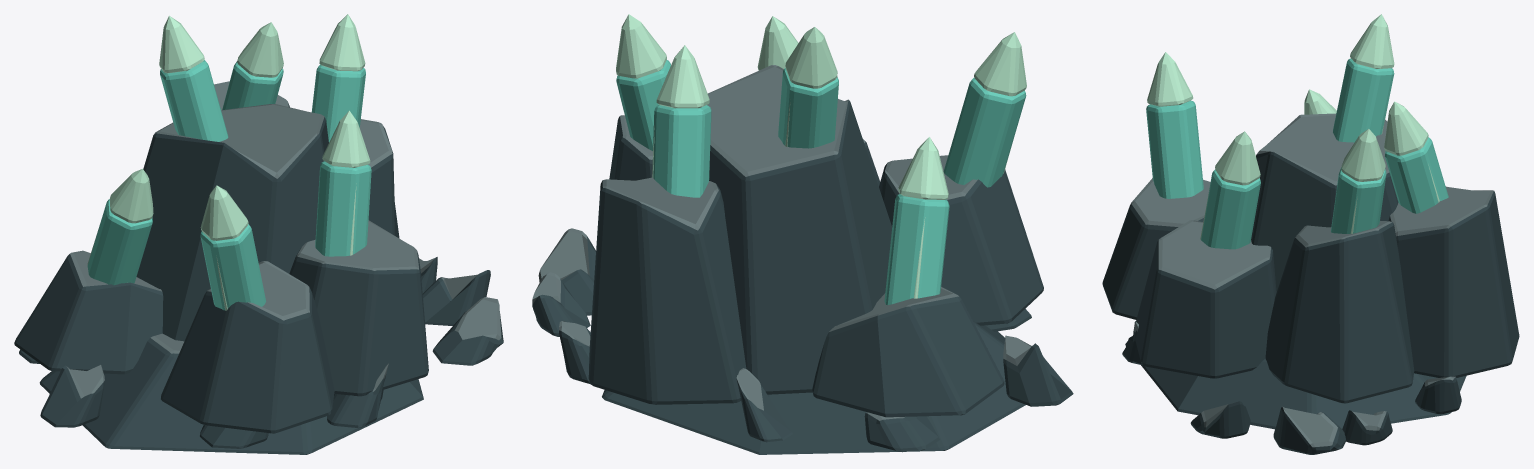
Rendered from crystal_vein.glb.
The picture shows the model from 3 angles, left to right: view 1: azimuth 30°, elevation 25°; view 2: azimuth 150°, elevation 25°; view 3: azimuth 270°, elevation 25°; orthographic projection. The views are drawn at different scales.
Parts seen in each view (by area): view 1: FracturedMass.059, FracturedMass.007, FracturedMass.060, FracturedMass.063, FracturedMass.062, PrismaticShaft.010, PrismaticShaft.007, PrismaticShaft.006, PrismaticShaft.009, FracturedMass.061, PrismaticShaft.008, CrystalTip.007 (+6 smaller); view 2: FracturedMass.059, FracturedMass.064, FracturedMass.007, FracturedMass.062, FracturedMass.060, PrismaticShaft.007, PrismaticShaft.009, PrismaticShaft.011, PrismaticShaft.006, PrismaticShaft.008, CrystalTip.009, CrystalTip.006 (+5 smaller); view 3: FracturedMass.061, FracturedMass.064, FracturedMass.063, FracturedMass.007, FracturedMass.059, FracturedMass.060, PrismaticShaft.007, PrismaticShaft.006, PrismaticShaft.010, PrismaticShaft.011, PrismaticShaft.008, CrystalTip.011 (+5 smaller).
Boxes of the visible parts, x1,y1,x2,y2 form: FracturedMass.059: (136,104,328,341); FracturedMass.007: (19,257,503,454); FracturedMass.060: (161,261,334,433); FracturedMass.063: (289,220,428,396); FracturedMass.062: (14,250,163,374); PrismaticShaft.010: (315,161,371,256); PrismaticShaft.007: (200,224,265,310); PrismaticShaft.006: (160,60,228,141); PrismaticShaft.009: (87,199,152,285); FracturedMass.061: (359,119,399,238); PrismaticShaft.008: (311,64,365,142); CrystalTip.007: (200,185,248,310); FracturedMass.059: (707,65,892,394); FracturedMass.064: (588,177,746,404); FracturedMass.007: (532,228,1073,454); FracturedMass.062: (812,287,1004,417); FracturedMass.060: (879,155,1043,325); PrismaticShaft.007: (943,77,1026,187); PrismaticShaft.009: (884,194,949,305); PrismaticShaft.011: (652,105,711,197); PrismaticShaft.006: (778,68,838,148); PrismaticShaft.008: (616,60,670,150); CrystalTip.009: (898,137,948,298); CrystalTip.006: (785,27,837,146); FracturedMass.061: (1265,221,1414,403); FracturedMass.064: (1388,186,1519,377); FracturedMass.063: (1133,220,1276,378); FracturedMass.007: (1122,321,1466,454); FracturedMass.059: (1251,113,1398,291); FracturedMass.060: (1102,178,1210,319); PrismaticShaft.007: (1146,100,1203,198); PrismaticShaft.006: (1333,58,1394,142); PrismaticShaft.010: (1201,169,1260,249); PrismaticShaft.011: (1385,137,1448,213); PrismaticShaft.008: (1331,167,1386,233); CrystalTip.011: (1384,101,1439,202).
Bounding box in the file's own units: 2.49 × 1.8 × 2.06.
